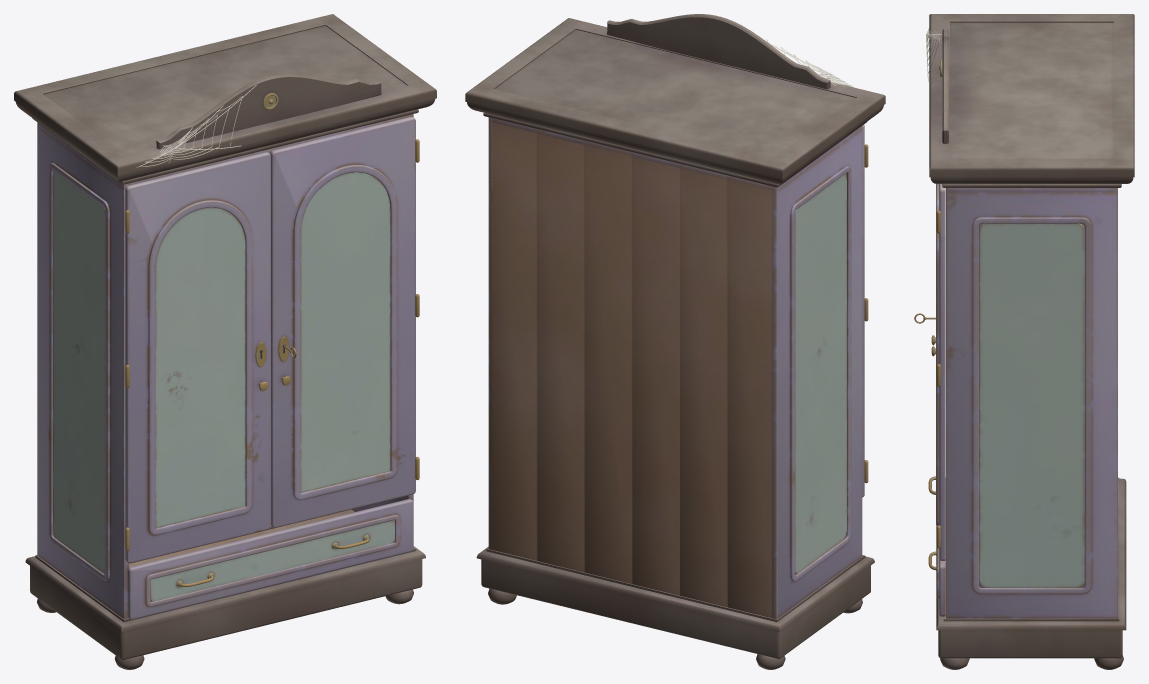
The model's file is old-wardrobe.glb.
3 views of the same model, side by side, from view 1: azimuth 30°, elevation 25°; view 2: azimuth 150°, elevation 25°; view 3: azimuth 270°, elevation 25° (orthographic).
Visible parts, largest first — view 1: old-wardrobe_body, old-wardrobe_door_left, old-wardrobe_door_right, old-wardrobe_web; view 2: old-wardrobe_body, old-wardrobe_door_left; view 3: old-wardrobe_body, old-wardrobe_door_right.
Boxes of the visible parts, bbox=[...] form: old-wardrobe_body: bbox=[14, 14, 436, 669]; old-wardrobe_door_left: bbox=[125, 152, 270, 563]; old-wardrobe_door_right: bbox=[270, 116, 415, 527]; old-wardrobe_web: bbox=[137, 85, 256, 167]; old-wardrobe_body: bbox=[465, 14, 885, 669]; old-wardrobe_door_left: bbox=[862, 125, 864, 497]; old-wardrobe_body: bbox=[928, 14, 1134, 669]; old-wardrobe_door_right: bbox=[914, 184, 945, 560].
Size of the model in its own units: 1.23 by 2.06 by 0.7426.
Materials: 5 (3 with a texture image).
